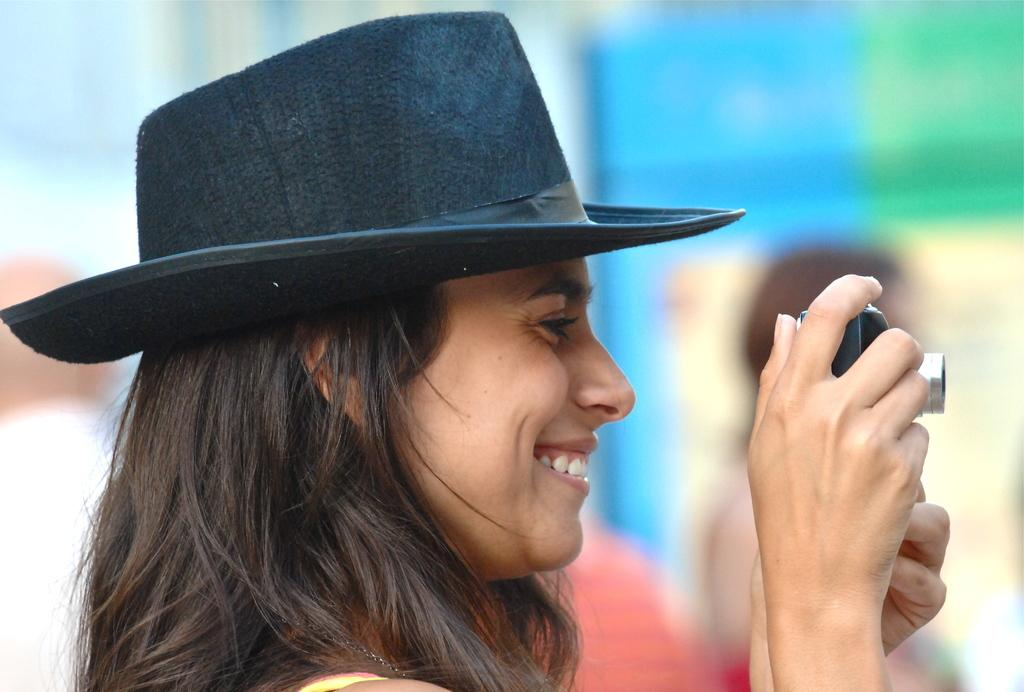Hat: (0, 7, 743, 364)
